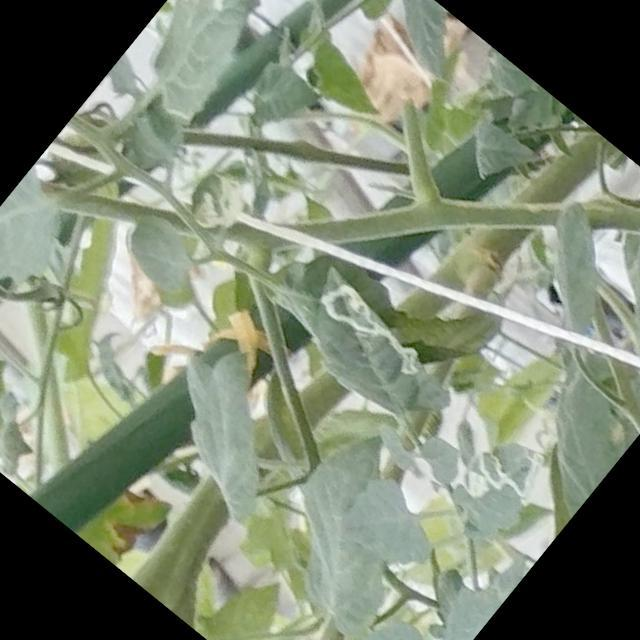Tomato target spot leaf: (274, 264, 471, 447), (106, 0, 281, 137), (435, 420, 564, 554)
